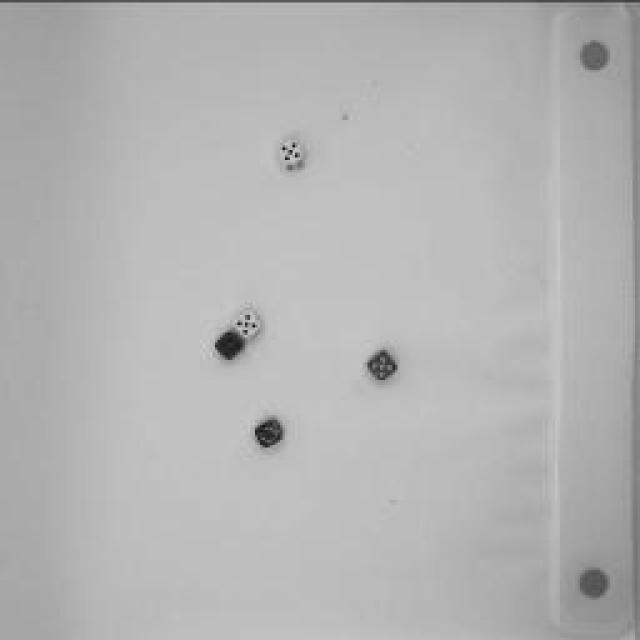dice_1: (212, 332, 242, 362)
dice_3: (250, 411, 288, 449)
dice_5: (362, 336, 402, 386), (278, 138, 310, 172), (232, 310, 262, 338)
